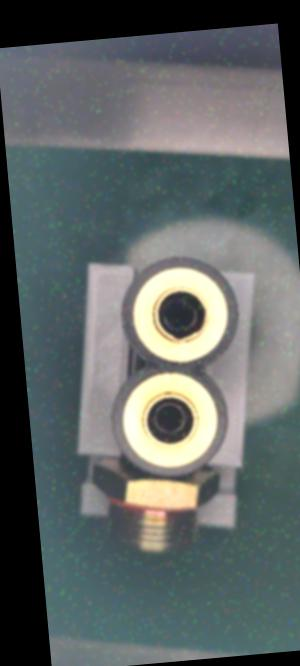bump: (168, 333, 194, 349)
off-centered: (157, 292, 205, 329)
